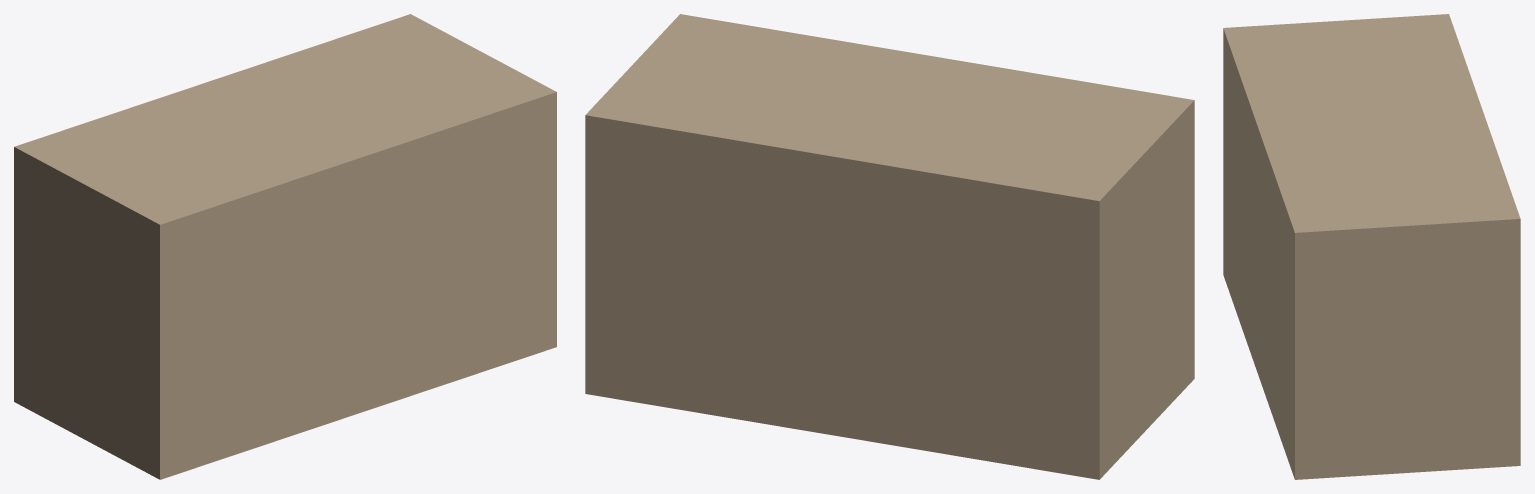
File: bld_101562314.dae
3 views of the same model, side by side, from view 1: azimuth 30°, elevation 25°; view 2: azimuth 150°, elevation 25°; view 3: azimuth 270°, elevation 25° (orthographic). The views are drawn at different scales.
Parts seen in each view (by area): view 1: bld_101562314; view 2: bld_101562314; view 3: bld_101562314.
Part boxes in pixels (left/top/right/bottom): bld_101562314: left=14, top=14, right=556, bottom=479; bld_101562314: left=585, top=14, right=1194, bottom=479; bld_101562314: left=1223, top=14, right=1520, bottom=479.
Bounding box in the file's own units: 15.21 × 8.73 × 8.
